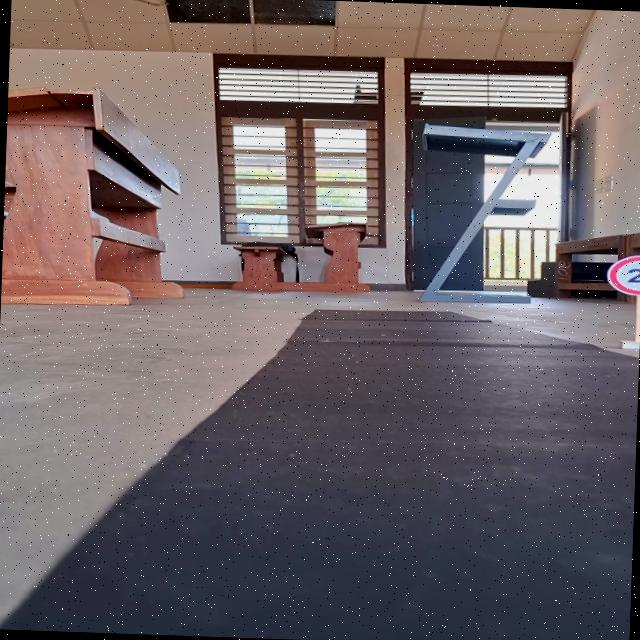Speed20: (602, 251, 640, 298)
